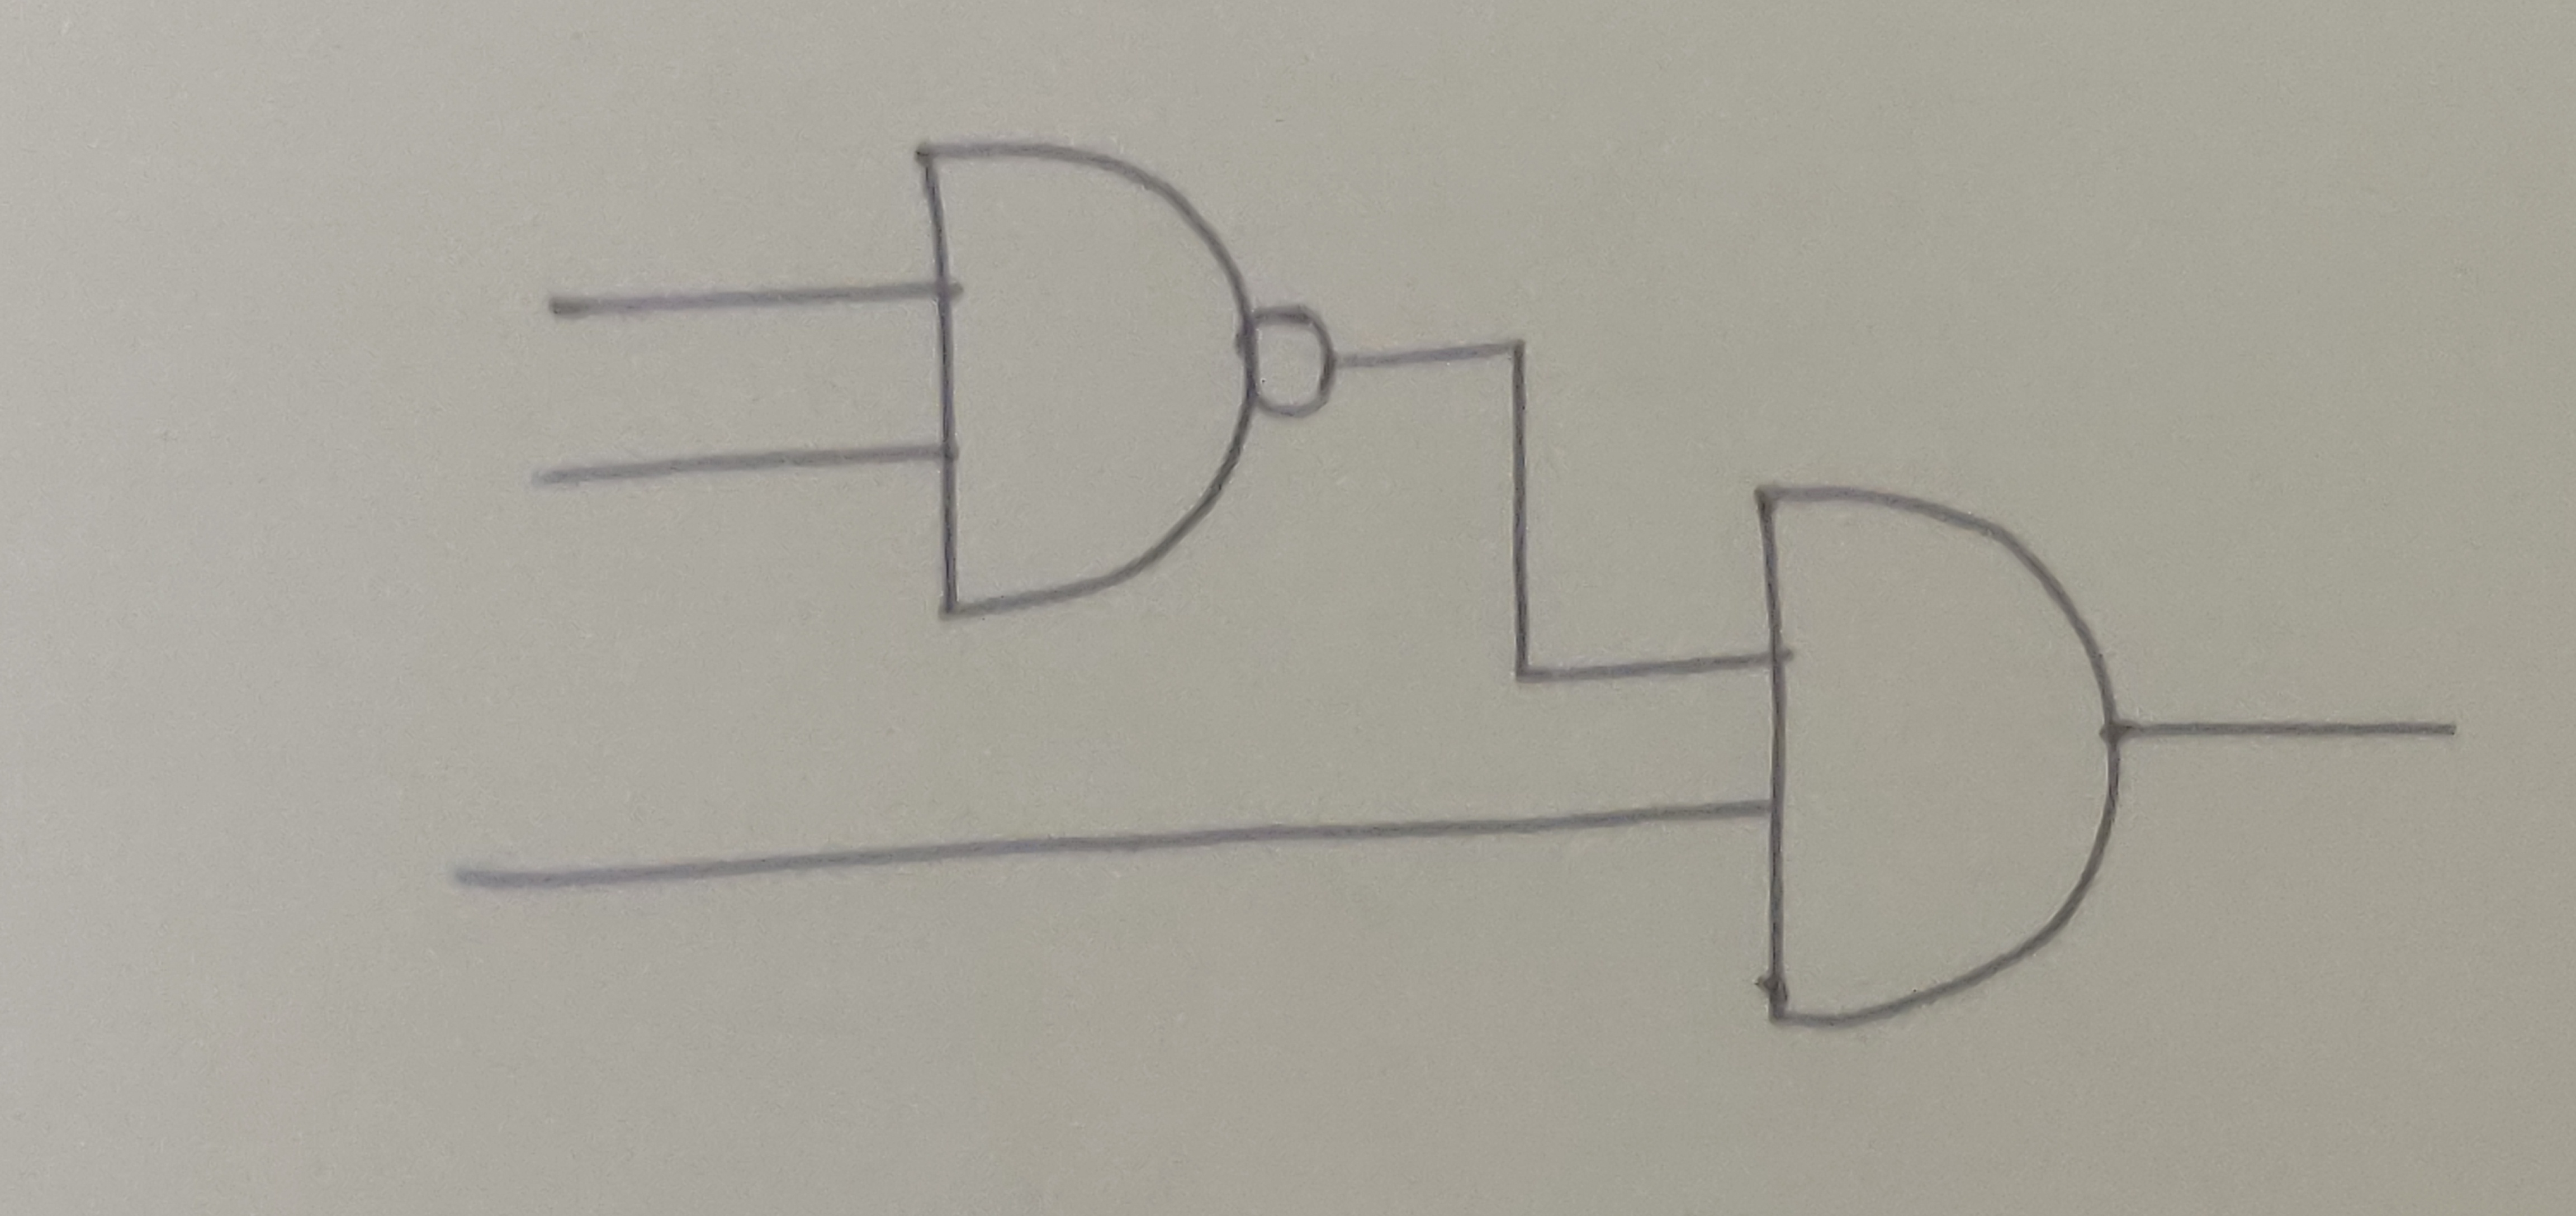and: (1748, 483, 2129, 1035), (917, 141, 1255, 624)
not: (1258, 289, 1347, 427)
